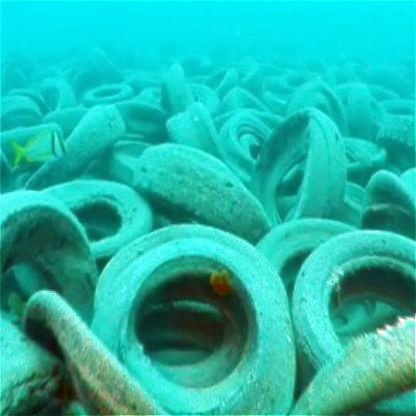tire: (89, 199, 289, 415), (1, 178, 103, 396), (299, 217, 416, 363), (40, 157, 176, 280), (140, 137, 264, 261), (251, 107, 342, 232), (193, 89, 290, 184), (32, 88, 122, 178), (80, 61, 128, 105)
